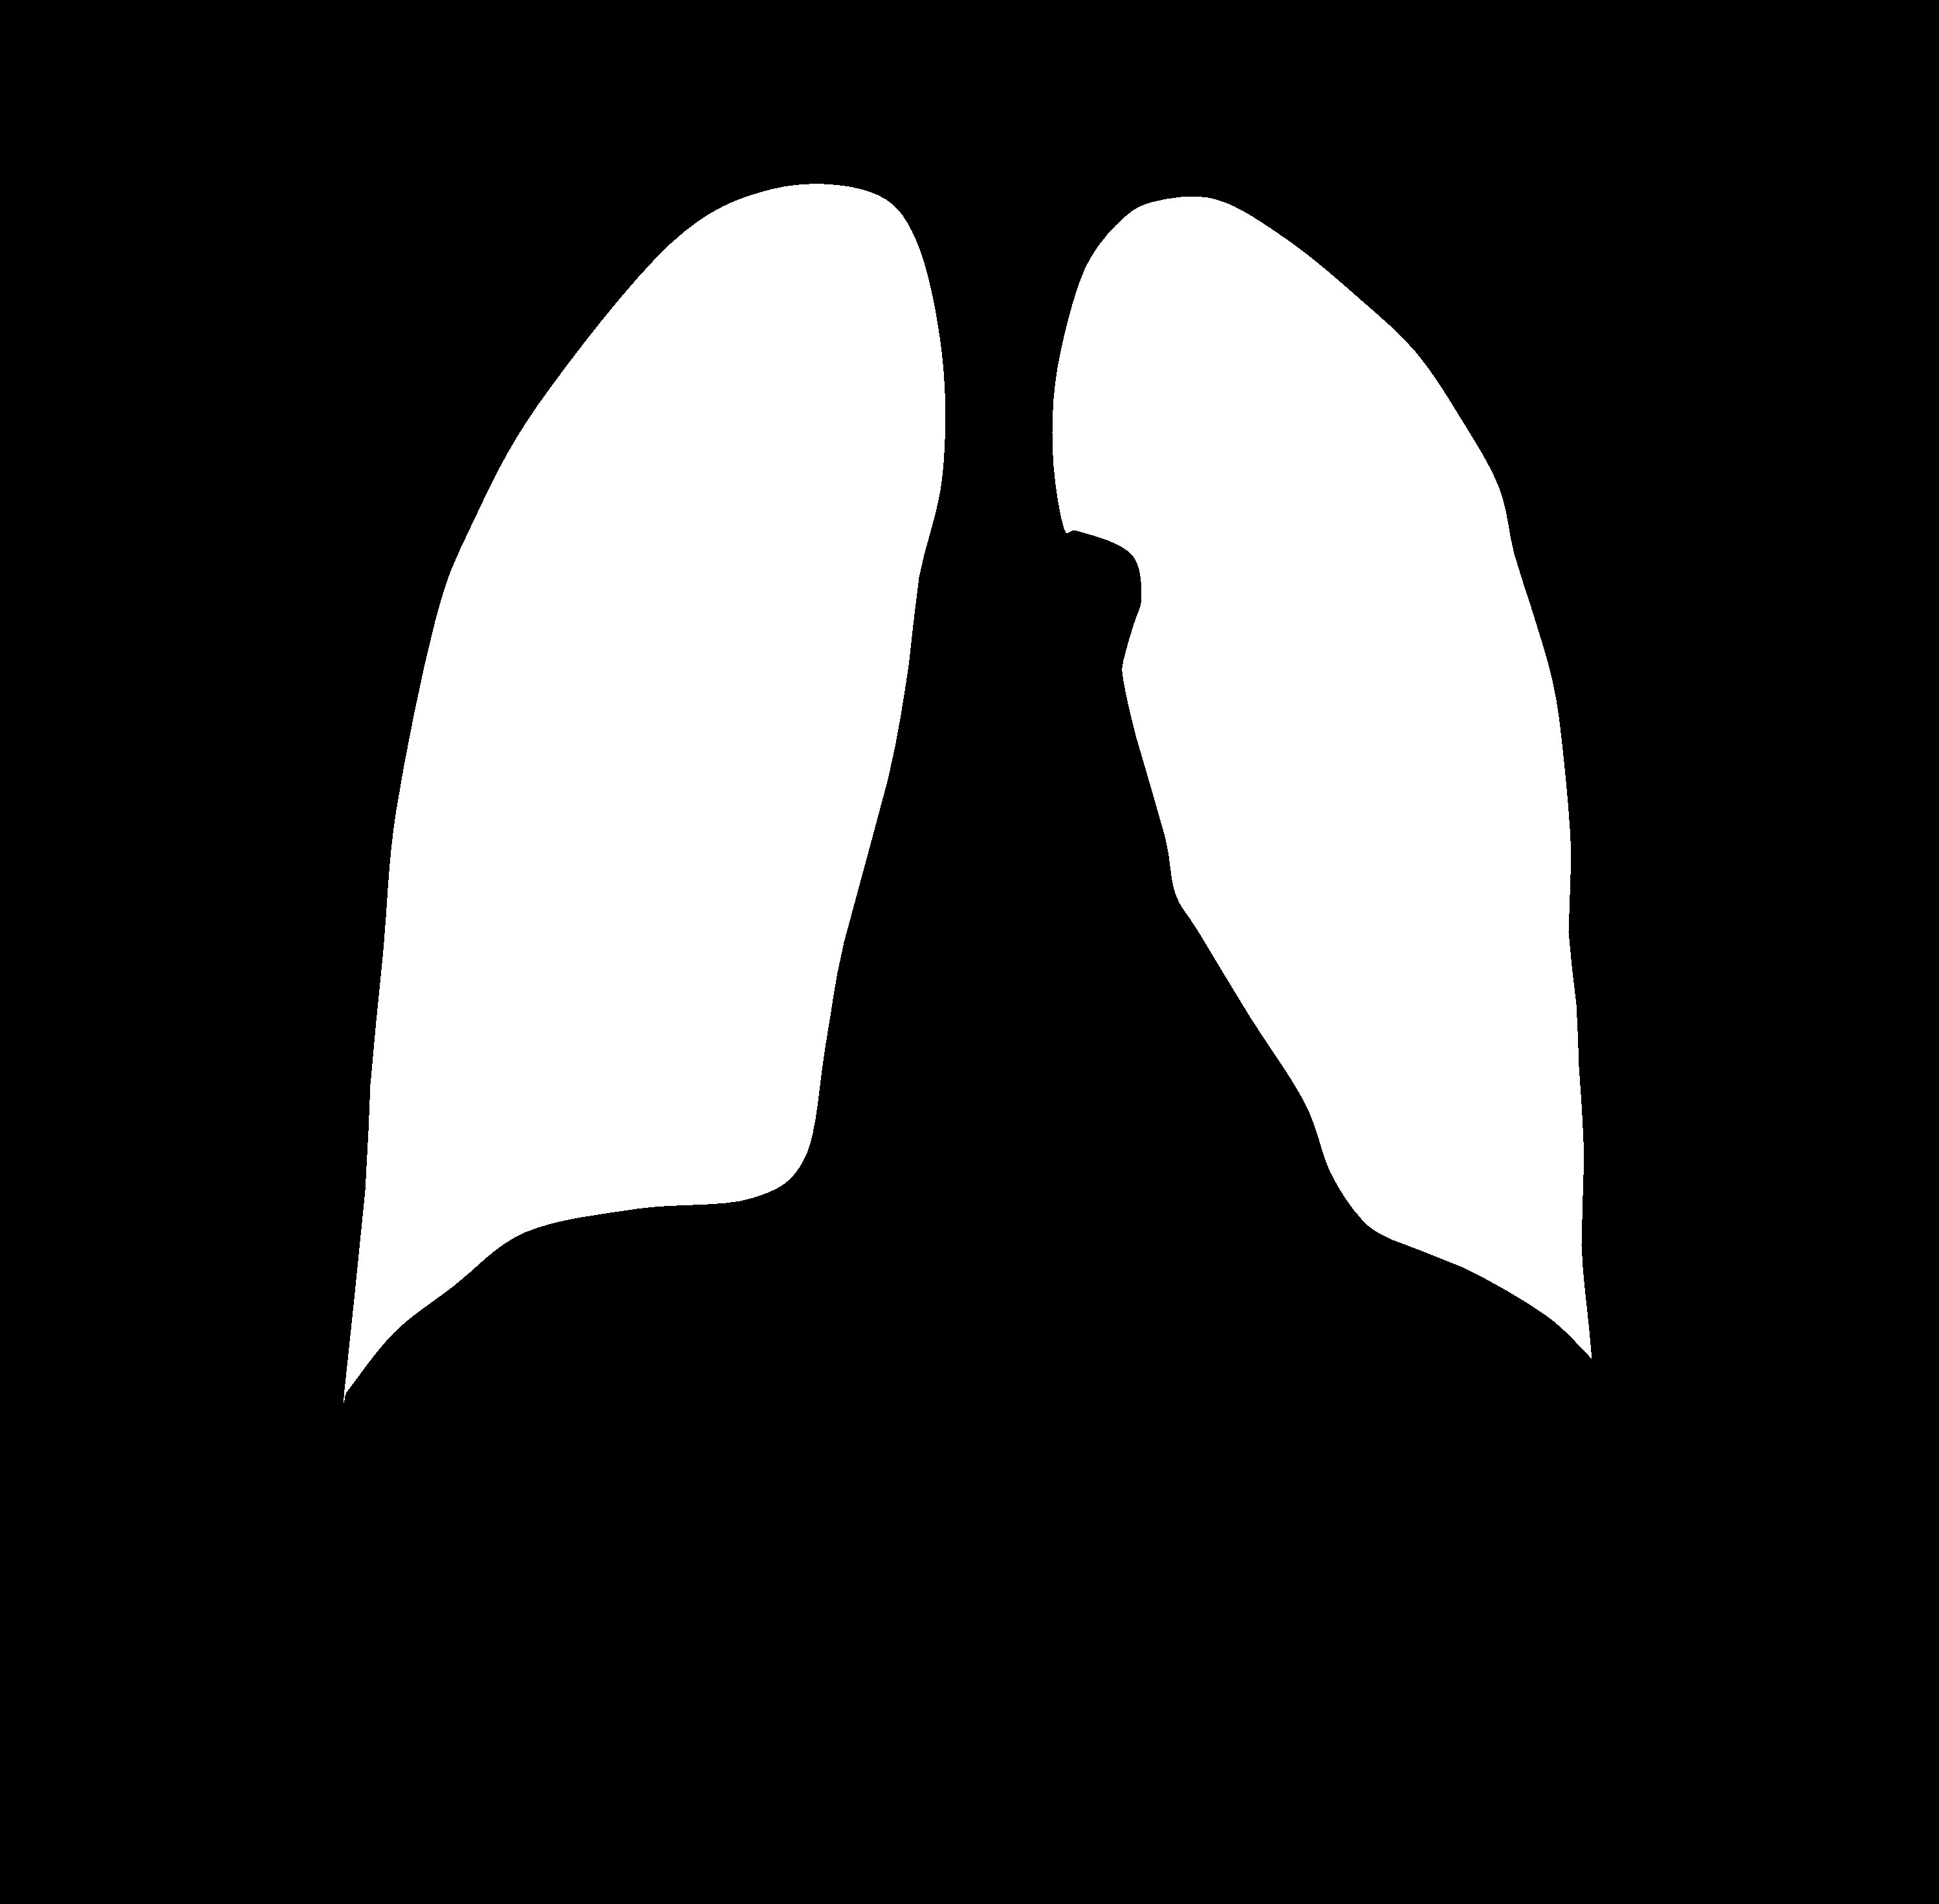heart: (813, 950, 1360, 1318)
left_lung: (344, 183, 945, 1402)
right_lung: (1051, 197, 1592, 1358)
